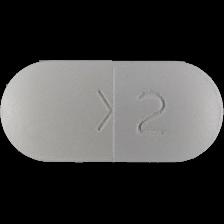16714-297: (0, 0, 224, 224)
